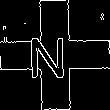N_N: (35, 29, 75, 81)
